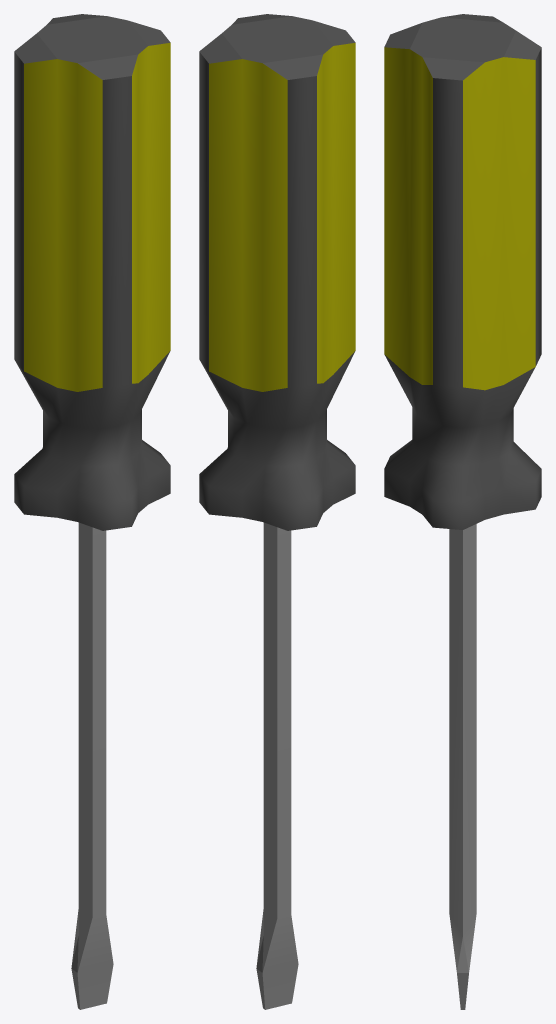
File: Screwdriver.fbx
The picture shows the model from 3 angles, left to right: view 1: azimuth 30°, elevation 25°; view 2: azimuth 210°, elevation 25°; view 3: azimuth 270°, elevation 25°; orthographic projection.
Parts seen in each view (by area): view 1: screwdriver; view 2: screwdriver; view 3: screwdriver.
Part boxes in pixels (bbox=[...]): screwdriver: bbox=[14, 14, 170, 1009]; screwdriver: bbox=[199, 14, 355, 1009]; screwdriver: bbox=[384, 14, 541, 1009].
Size of the model in its own units: 1.09 by 7.37 by 1.09.
